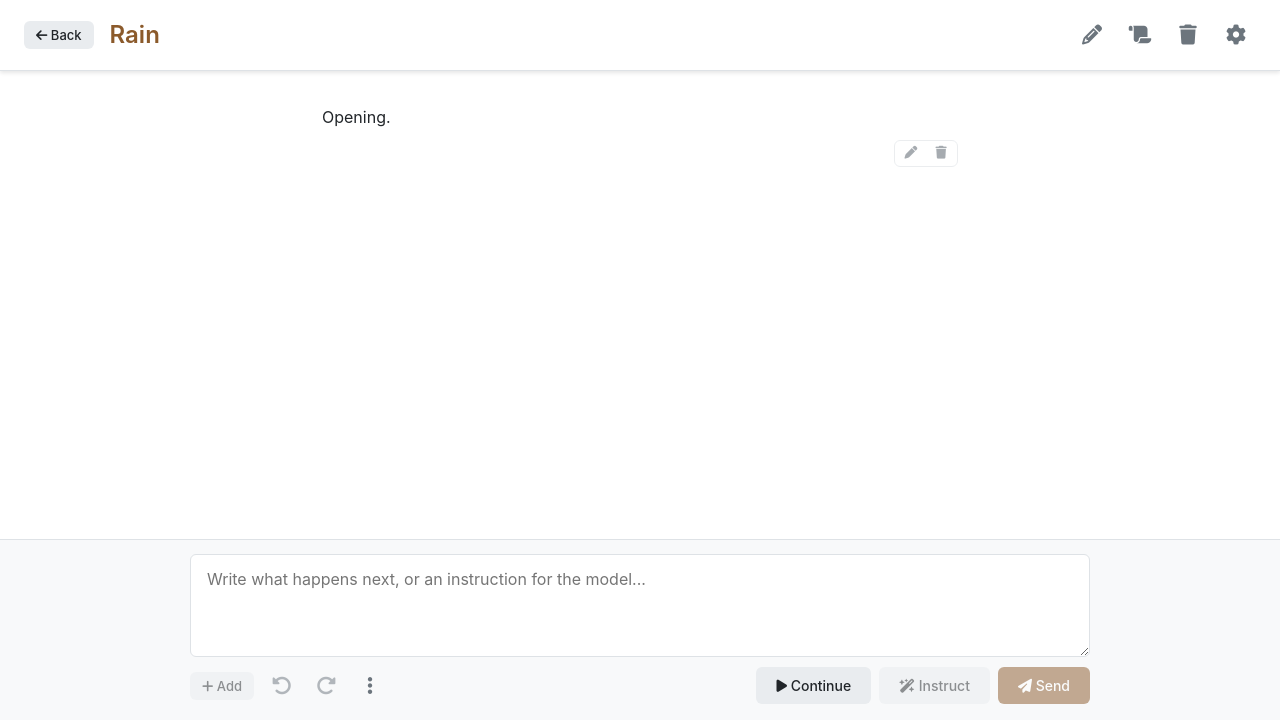
Test: StoryEditor in Enhanced Story Mode › records a continuation and its reasoning, and shows them in the seam
The width and height of the screenshot is (1280, 720).
Click the button "Continue".
click(814, 686)  # box [756,667,871,704]
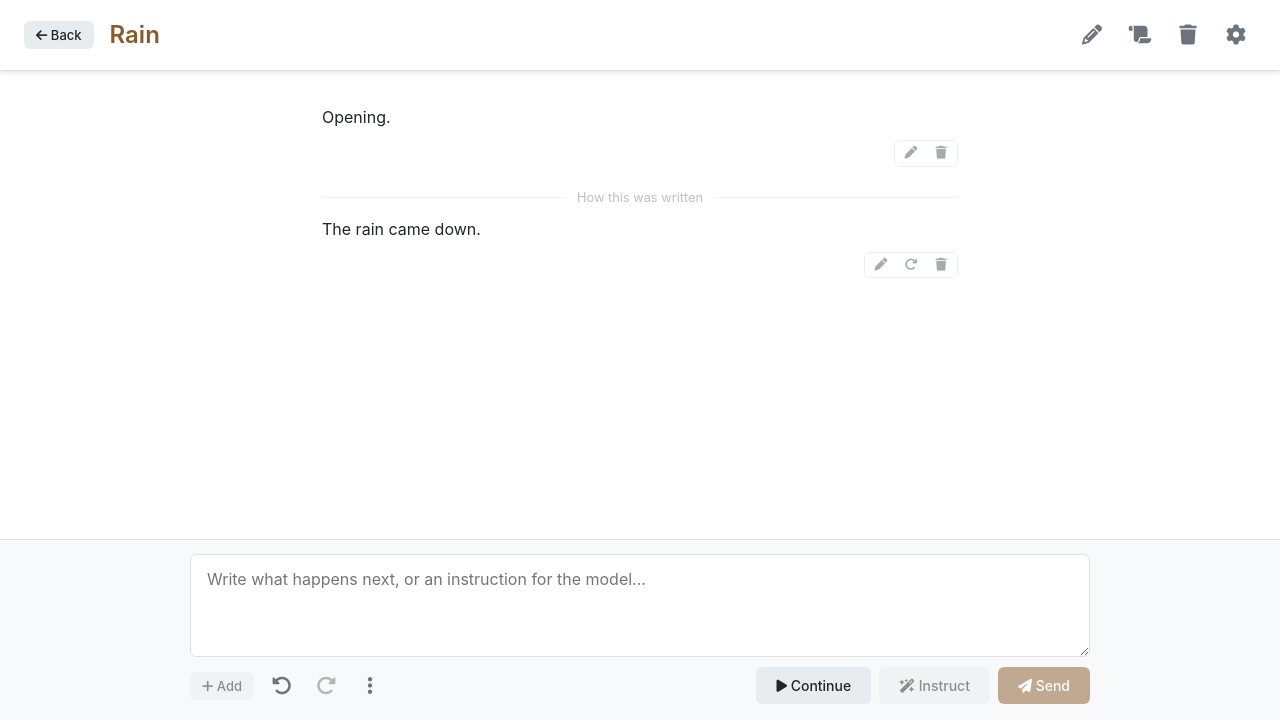
Click the button with class "seam-toggle".
click(640, 198)  # box [322,183,958,213]
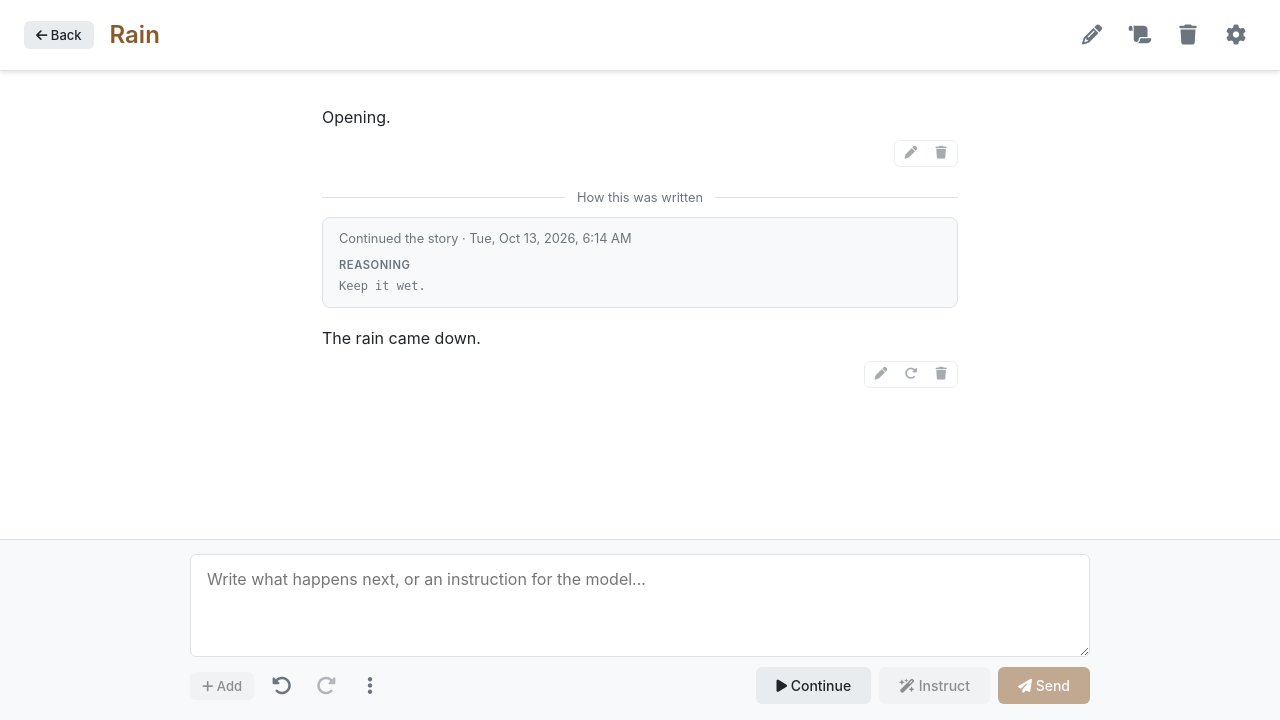
expect the element with class "seam-panel" shows "Keep it wet.": met, box [339,280,426,294]
expect the element with class "seam-panel" shows "Continued the story": met, box [339,231,632,246]
